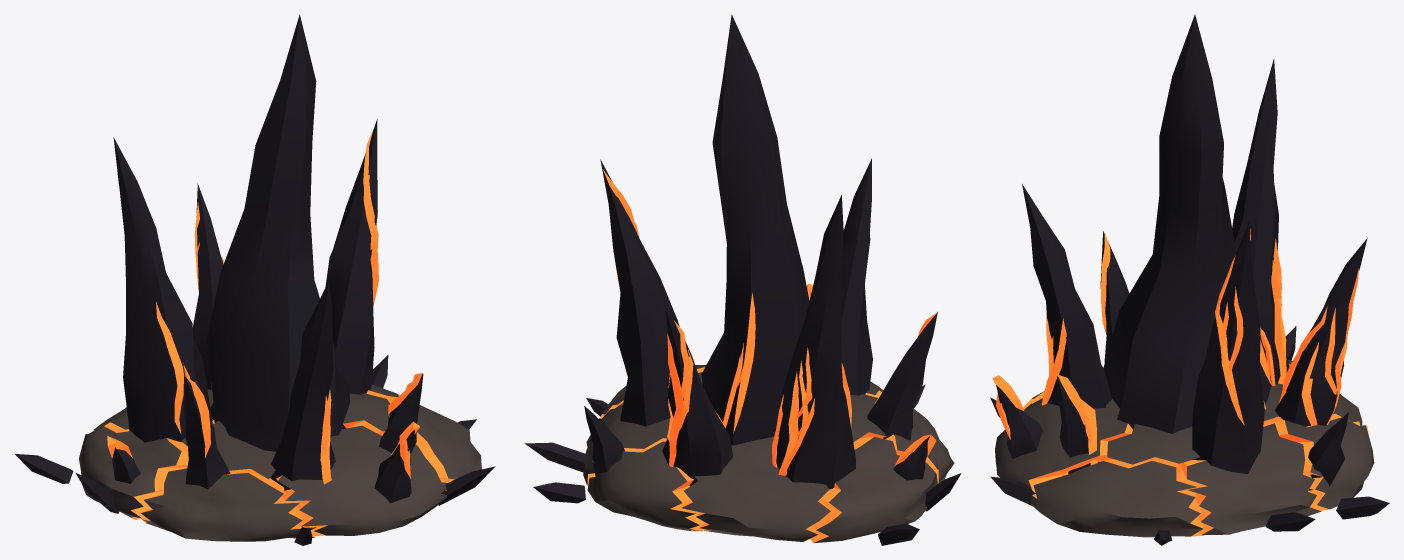
File: obsidian_spire_a.glb
3 renders of one model, left to right at view 1: azimuth 30°, elevation 25°; view 2: azimuth 150°, elevation 25°; view 3: azimuth 270°, elevation 25°, orthographic. The views are drawn at different scales.
Parts seen in each view (by area): view 1: obsidian_spire_a; view 2: obsidian_spire_a; view 3: obsidian_spire_a.
Boxes of the visible parts, x1,y1,x2,y2 form: obsidian_spire_a: [15, 14, 495, 545]; obsidian_spire_a: [524, 14, 961, 545]; obsidian_spire_a: [990, 14, 1389, 545].
Bounding box in the file's own units: 5.97 × 6.45 × 5.06.
